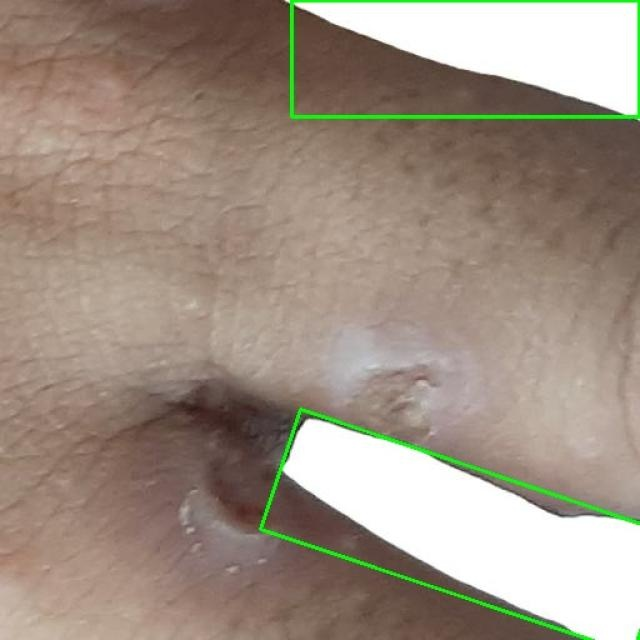Scabies: (261, 409, 640, 640), (291, 0, 639, 118)
